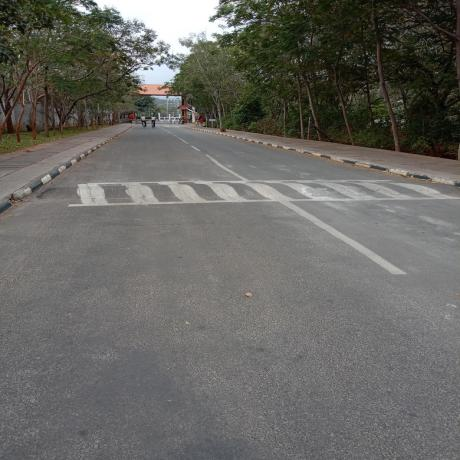Speed Bump: (33, 180, 459, 203)
